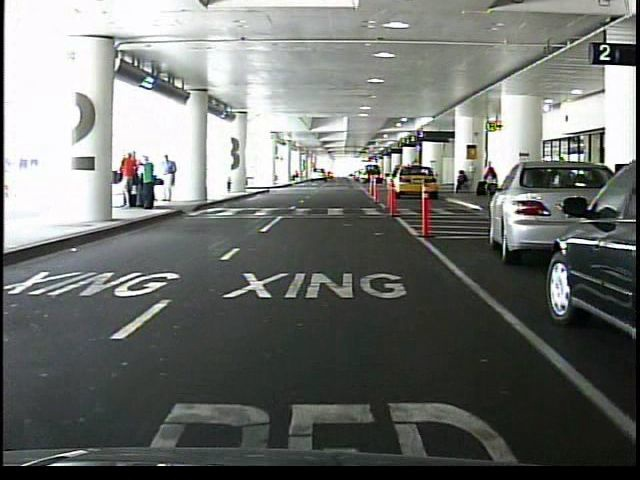person: (141, 155, 159, 211), (163, 154, 179, 204), (124, 150, 138, 207), (482, 162, 496, 197), (453, 171, 468, 196)
